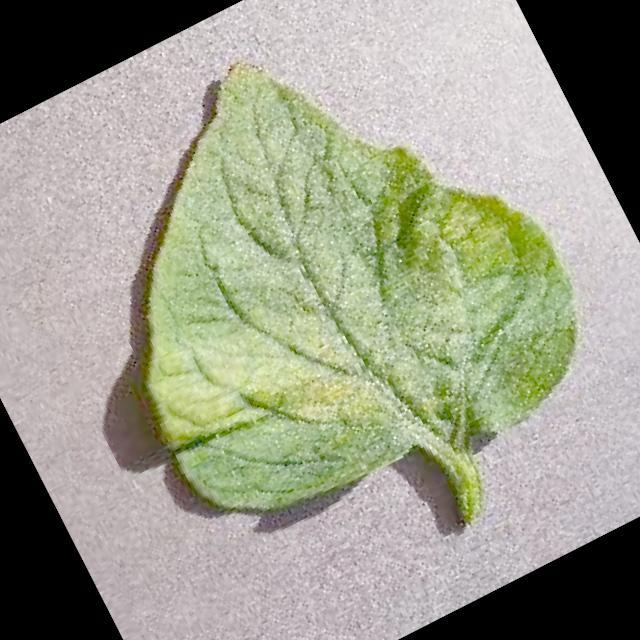Tomato spider mites leaf: (23, 0, 618, 577)
